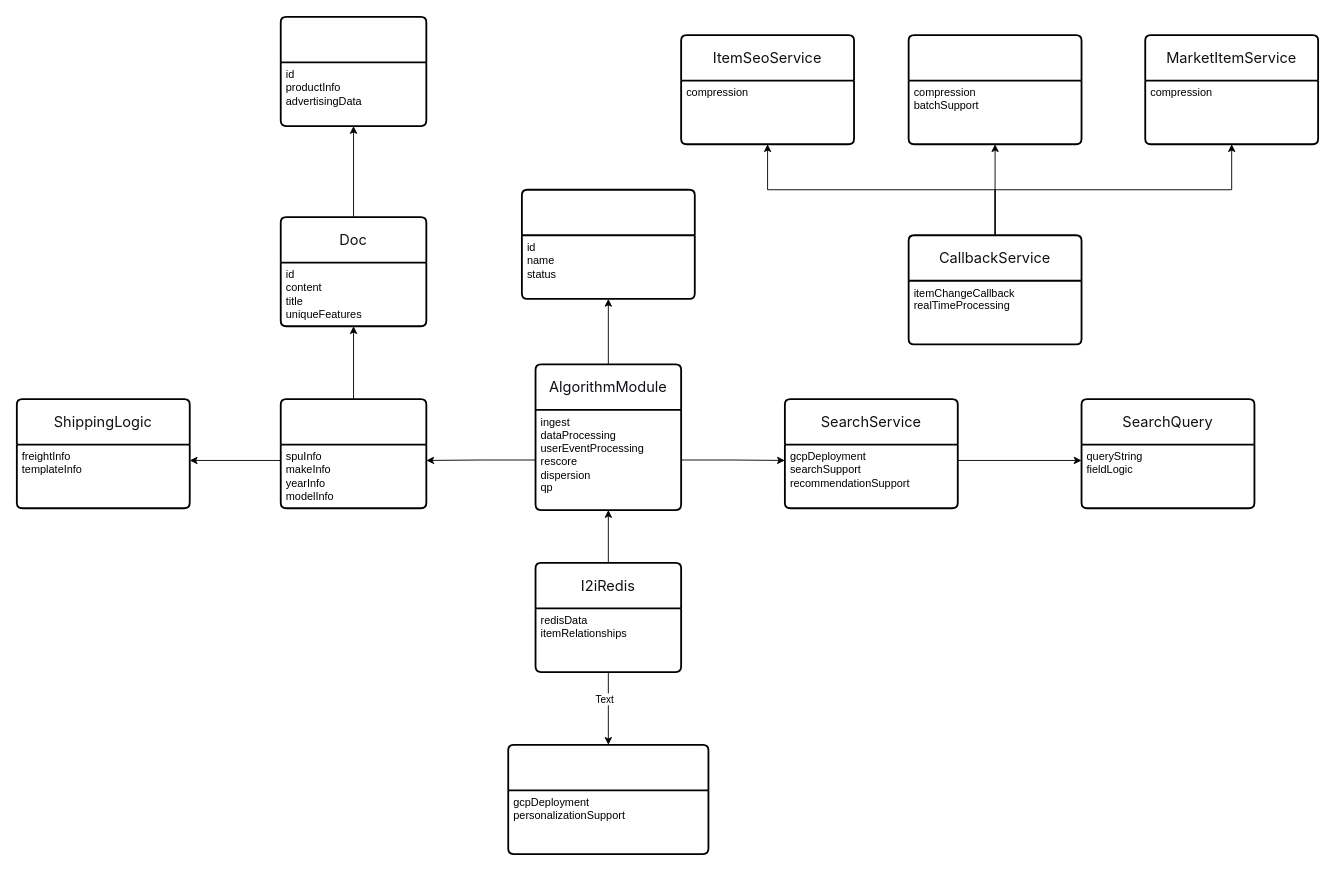
Some shapes in this 1334 by 870 pixel diagram are drawn without their labels. The box of each missing label's shape, as (x1, y1, x2, y2) in pixels:
Feed: (279, 15, 427, 126)
ItemService: (907, 34, 1082, 145)
ProductIndex: (279, 398, 427, 509)
RecommendationIndex: (521, 188, 695, 299)
RecommendationService: (507, 743, 709, 854)
